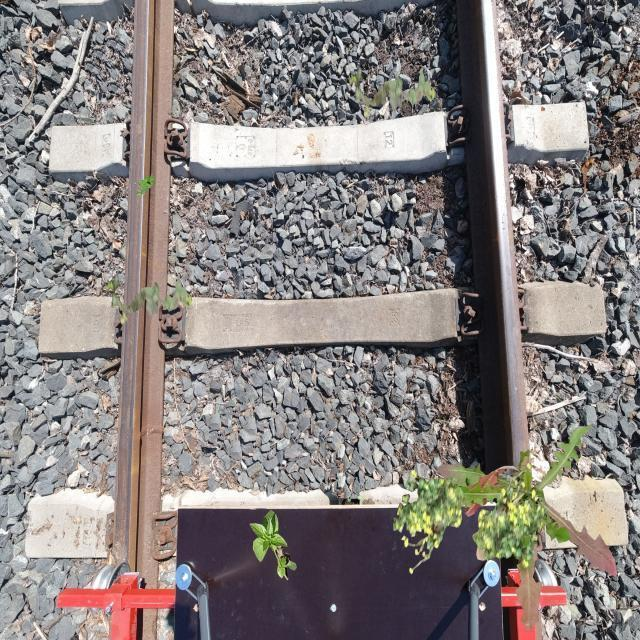Plant: (437, 424, 617, 632), (472, 463, 547, 568), (393, 470, 468, 575), (349, 67, 436, 119), (106, 273, 192, 324), (249, 510, 297, 581), (136, 173, 156, 198)
